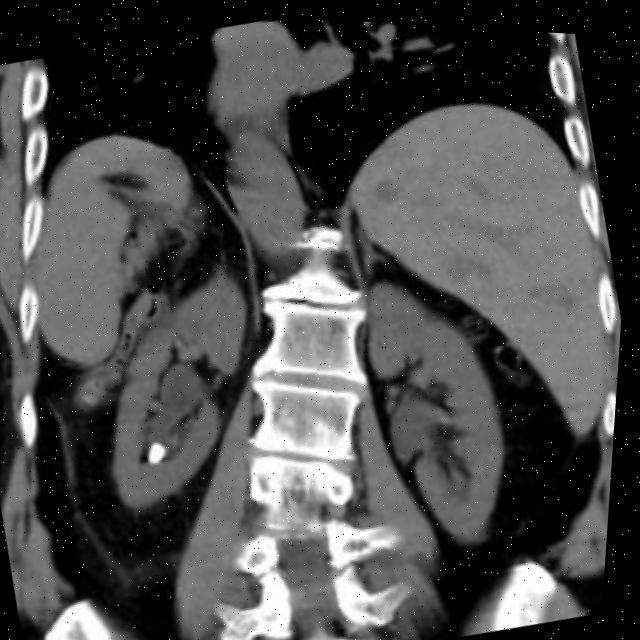Tas_Var: (139, 429, 180, 470)
